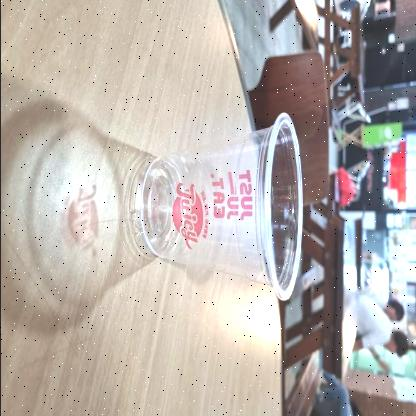Others: (134, 107, 306, 306)
